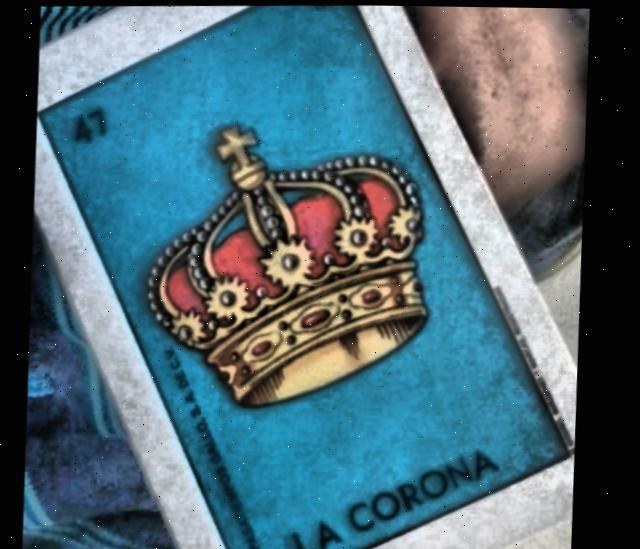La Corona: (40, 4, 576, 549)
